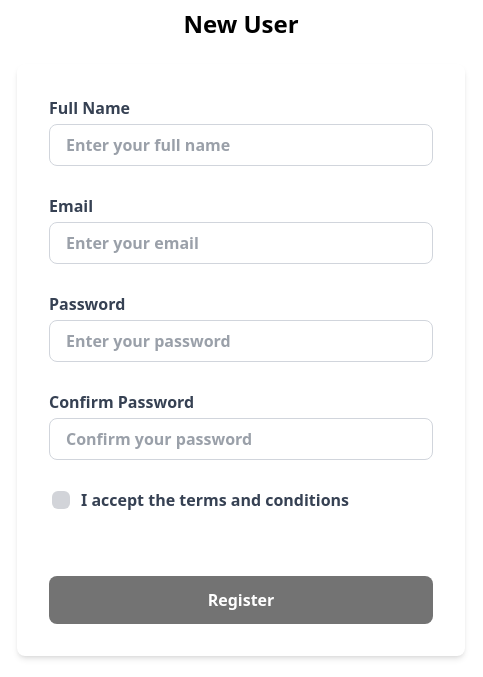
Test: 2. form validation › 2.5. should show error message when accept terms is not checked
The image size is (483, 677).
expect the text "you must accept the terms" is not shown: met
Click the checkbox labelled "I accept the terms and conditions" at x=199, y=500, box [49, 488, 349, 512]
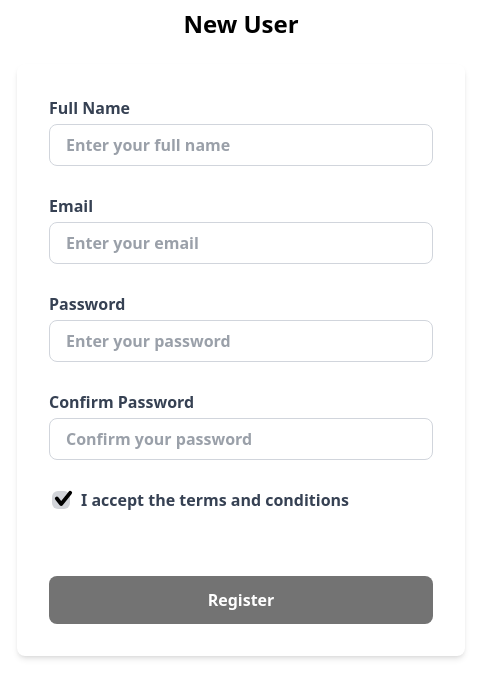
expect the checkbox labelled "I accept the terms and conditions" is checked: met
Click the checkbox labelled "I accept the terms and conditions" at x=199, y=500, box [49, 488, 349, 512]
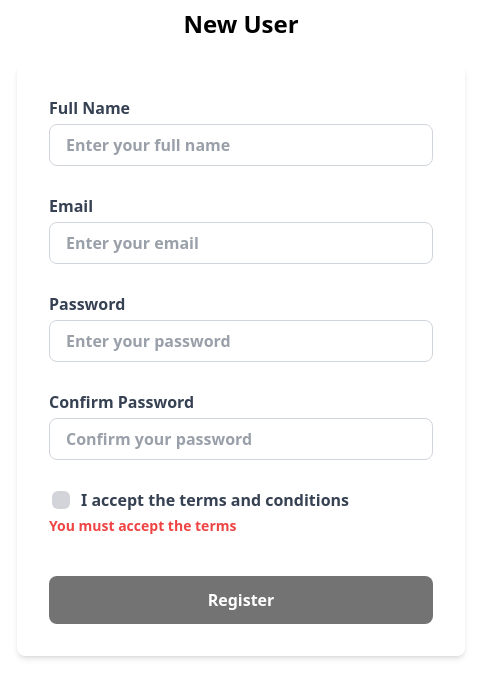
expect the checkbox labelled "I accept the terms and conditions You must accept the terms" is not checked: met, box [49, 488, 349, 535]
expect the text "You must accept the terms" is shown: met, box [49, 516, 236, 536]
